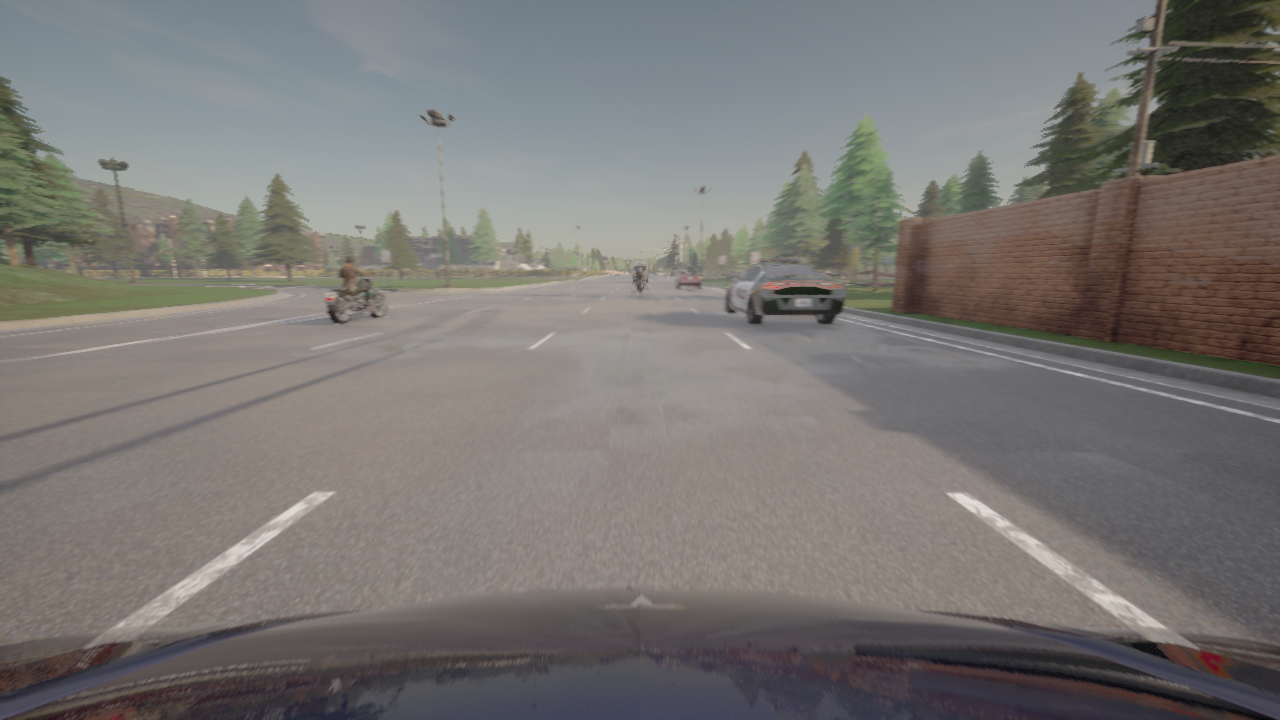cyclist: (0, 588, 1279, 719), (725, 259, 845, 324), (324, 270, 386, 324), (674, 267, 701, 289), (631, 261, 649, 282), (636, 274, 644, 291)
